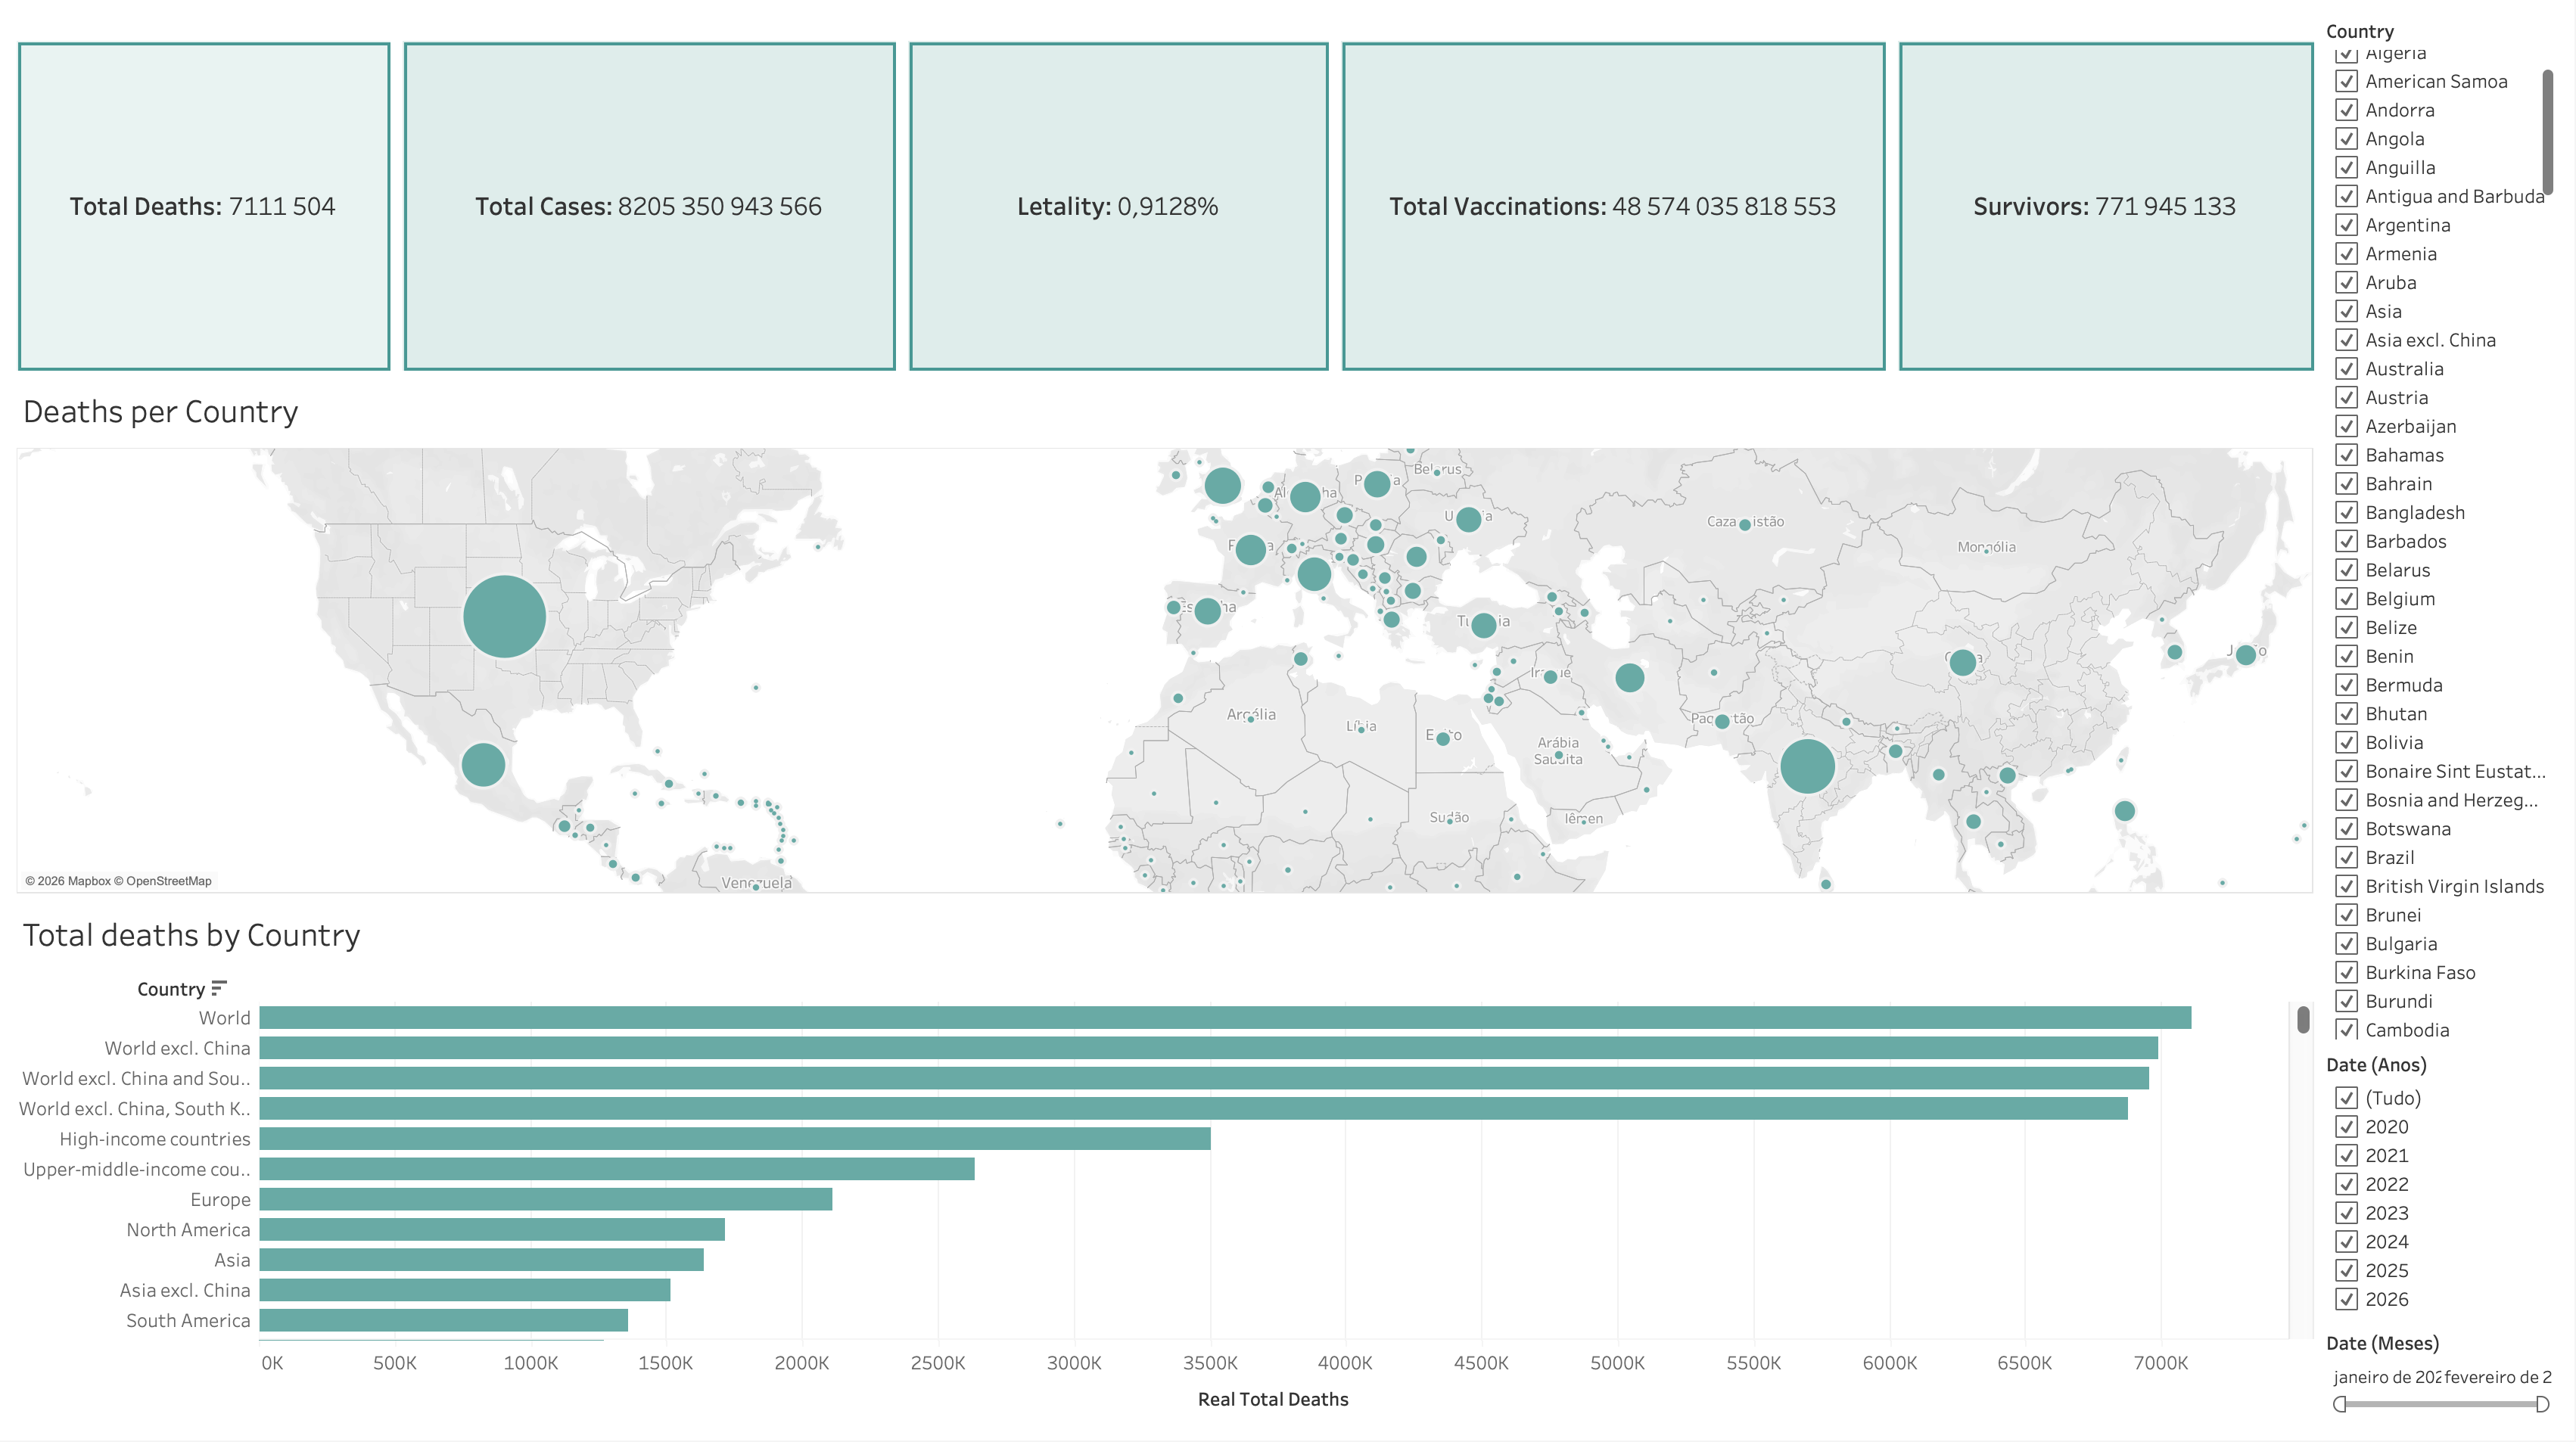

The dashboard page shown, as its layout file describes it:
{"tool":"tableau","page":{"name":"Summary","canvas":[1000,1000],"units":"permille","ordinal":0},"visuals":[{"type":"worksheet","title":"Total Deaths","mark":"Automatic","box":[5.3,8.4,147.7,253.1]},{"type":"worksheet","title":"Total Cases","mark":"Automatic","box":[153,8.4,193.5,253.1]},{"type":"worksheet","title":"Letality","mark":"Automatic","box":[346.4,8.4,165.7,253.1]},{"type":"worksheet","title":"Vacinações","mark":"Automatic","box":[512.1,8.4,213.2,253.1]},{"type":"worksheet","title":"People Survived","mark":"Automatic","box":[725.3,8.4,164,253.1]},{"type":"filter","title":"Deaths Map","param":"[federated.0t9ucq11tqin3y0zksvj31c0xcmw].[none:country:nk]","box":[889.3,8.4,105.5,717.5]},{"type":"worksheet","title":"Deaths Map","mark":"Automatic","box":[5.3,261.5,884,363.4]},{"type":"worksheet","title":"Total deaths by Country","mark":"Automatic","rows":["country"],"cols":["Calculation_5171412117835782"],"box":[5.3,625,884,366.6]},{"type":"filter","title":"Vacinações","param":"[federated.0t9ucq11tqin3y0zksvj31c0xcmw].[none:Date (Anos):ok]","box":[889.3,725.9,105.5,193.3]},{"type":"filter","title":"Vacinações","param":"[federated.0t9ucq11tqin3y0zksvj31c0xcmw].[none:Date (Meses):qk]","box":[889.3,919.1,105.5,72.5]}]}

Visuals, with their boxes on the dashboard's canvas, which has no fixed pixel size, in thousandths of its width and height (x1, y1, x2, y2). These are canvas units, not pixel positions in the 2576x1442 screenshot, which may show the page scaled, cropped or inside an application window:
"Total Deaths" worksheet: 5:8:153:262
"Total Cases" worksheet: 153:8:346:262
"Letality" worksheet: 346:8:512:262
"Vacinações" worksheet: 512:8:725:262
"People Survived" worksheet: 725:8:889:262
"Deaths Map" filter: 889:8:995:726
"Deaths Map" worksheet: 5:262:889:625
"Total deaths by Country" worksheet: 5:625:889:992
"Vacinações" filter: 889:726:995:919
"Vacinações" filter: 889:919:995:992
